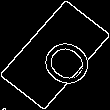O_NW: (20, 22, 90, 88)
